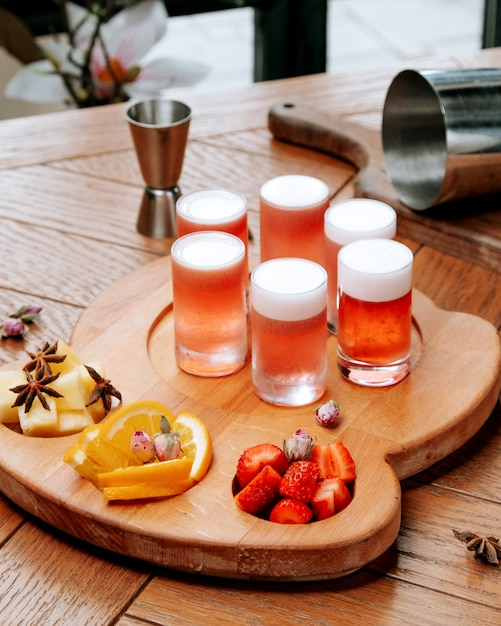alcohol: (167, 227, 250, 378), (336, 237, 417, 387), (250, 259, 330, 408), (257, 173, 333, 318), (327, 198, 399, 324), (168, 190, 251, 269)
